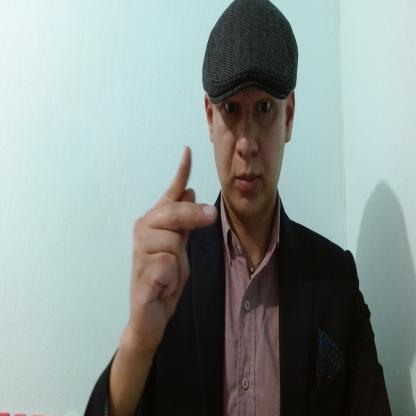P: (127, 144, 219, 340)
